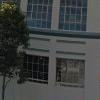Tree: (2, 0, 29, 76)
